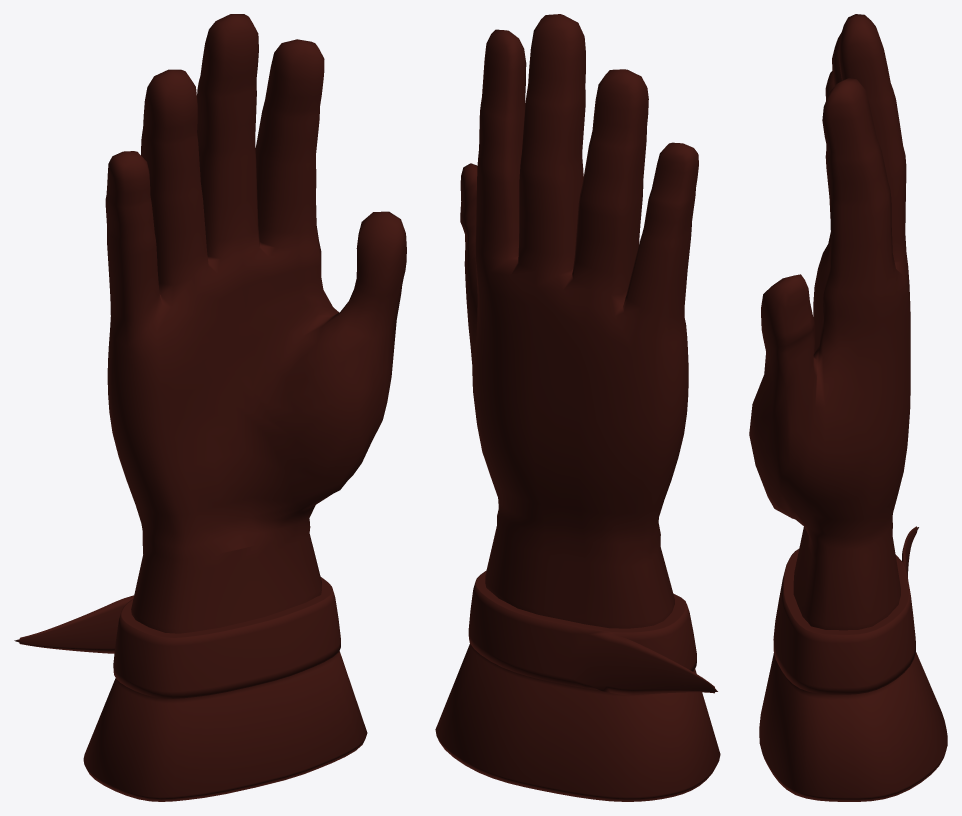
Rendered from Mesh_Glove_v2.FBX.
3 views of the same model, side by side, from view 1: azimuth 30°, elevation 25°; view 2: azimuth 150°, elevation 25°; view 3: azimuth 270°, elevation 25° (orthographic).
Visible parts, largest first — view 1: Glove; view 2: Glove; view 3: Glove.
Boxes of the visible parts, left/top/right/bottom form: Glove: left=14, top=14, right=406, bottom=801; Glove: left=435, top=14, right=720, bottom=801; Glove: left=749, top=14, right=947, bottom=801.
Size of the model in its own units: 90.95 by 197 by 48.5.
